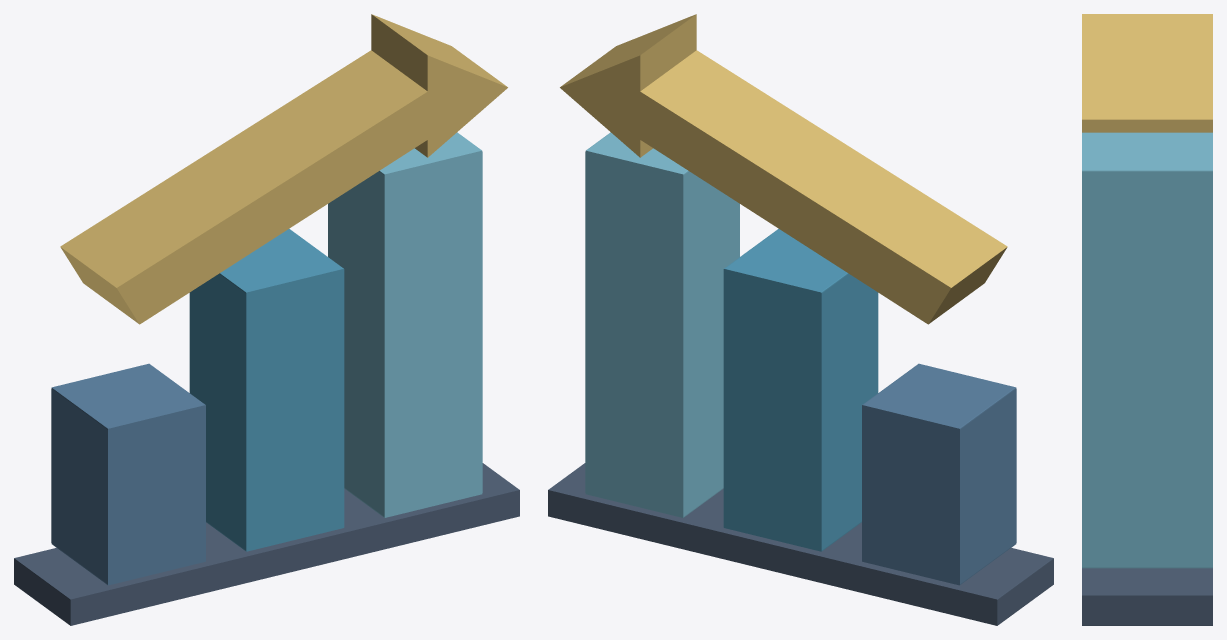
Rendered from data-analysis-transformed.glb.
The picture shows the model from 3 angles, left to right: view 1: azimuth 30°, elevation 25°; view 2: azimuth 150°, elevation 25°; view 3: azimuth 270°, elevation 25°; orthographic projection. The views are drawn at different scales.
Visible parts, largest first — view 1: geometry_3, geometry_4, geometry_2, geometry_1, geometry_0; view 2: geometry_3, geometry_4, geometry_2, geometry_1, geometry_0; view 3: geometry_3, geometry_4, geometry_0.
Boxes of the visible parts, x1=… form: geometry_3: x1=328, y1=132, x2=482, y2=517; geometry_4: x1=60, y1=14, x2=507, y2=324; geometry_2: x1=189, y1=229, x2=344, y2=551; geometry_1: x1=51, y1=363, x2=205, y2=585; geometry_0: x1=14, y1=463, x2=519, y2=625; geometry_3: x1=585, y1=132, x2=739, y2=517; geometry_4: x1=560, y1=14, x2=1007, y2=324; geometry_2: x1=723, y1=229, x2=878, y2=551; geometry_1: x1=862, y1=363, x2=1016, y2=585; geometry_0: x1=548, y1=463, x2=1053, y2=625; geometry_3: x1=1082, y1=132, x2=1212, y2=568; geometry_4: x1=1082, y1=14, x2=1212, y2=132; geometry_0: x1=1082, y1=568, x2=1212, y2=625.
Bounding box in the file's own units: 3.9 × 4.01 × 0.85.
